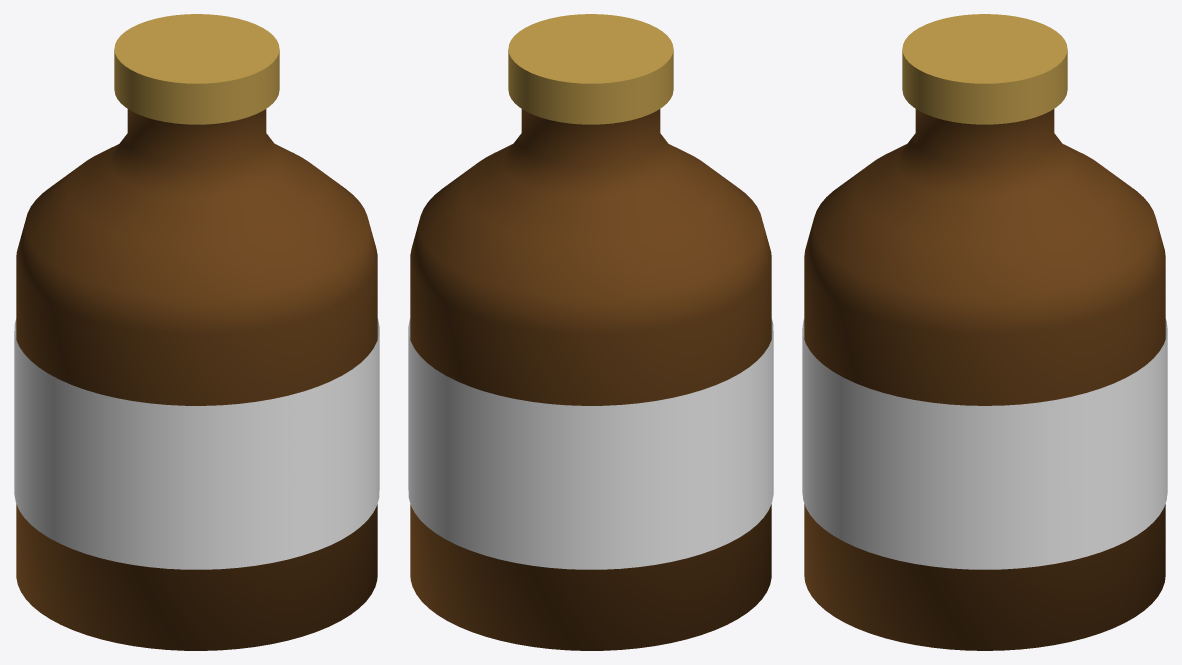
File: blend285.glb
3 views of the same model, side by side, from view 1: azimuth 30°, elevation 25°; view 2: azimuth 150°, elevation 25°; view 3: azimuth 270°, elevation 25° (orthographic).
Size of the model in its own units: 0.606 by 0.9625 by 0.606.
